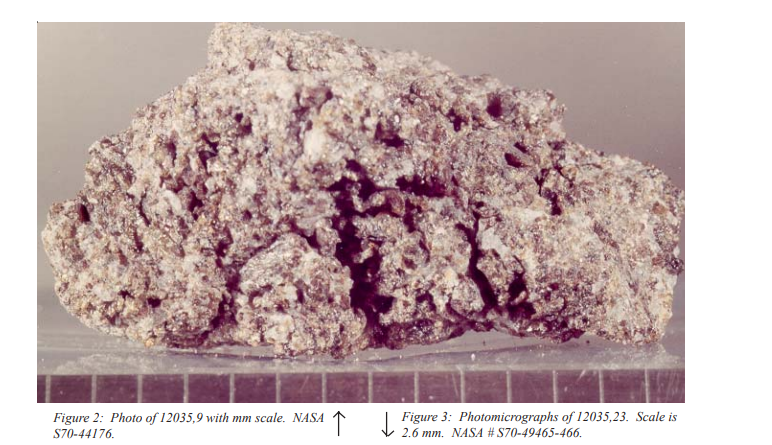Basalt: (33, 21, 689, 361)
